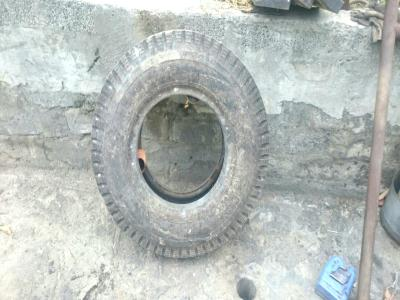bottle: (313, 252, 358, 299)
tire: (86, 26, 274, 264)
